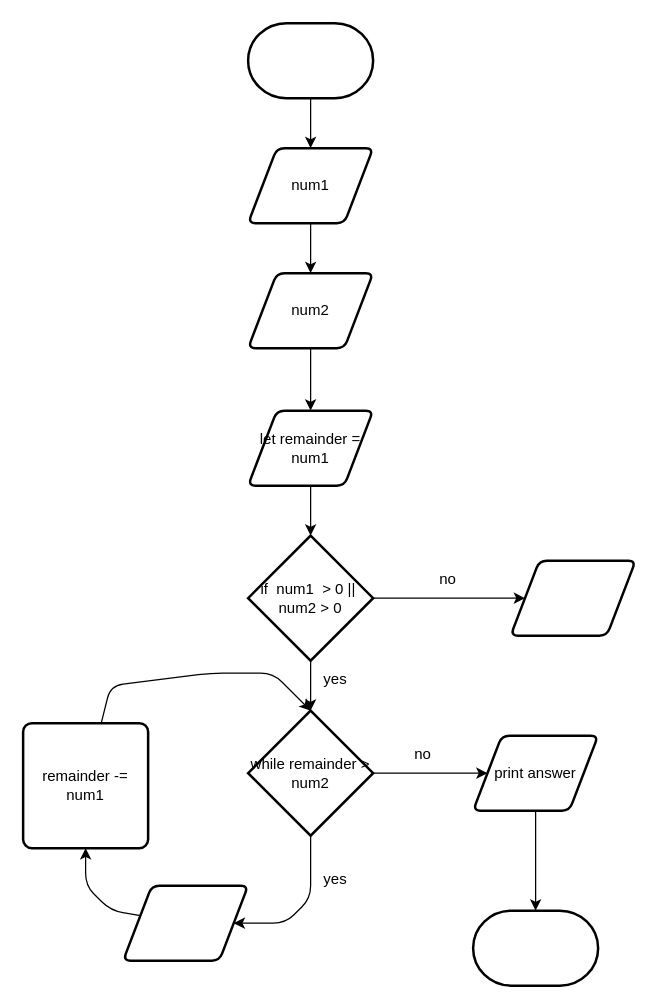
This 658x1008 diagram has some shape labels left out. Here are the shapes that lost their labels. From the top down, the centre of each, then its label:
[310,60]: start
[572,597]: "please put a positive integer that's not 0"
[185,922]: count++
[535,947]: stop
